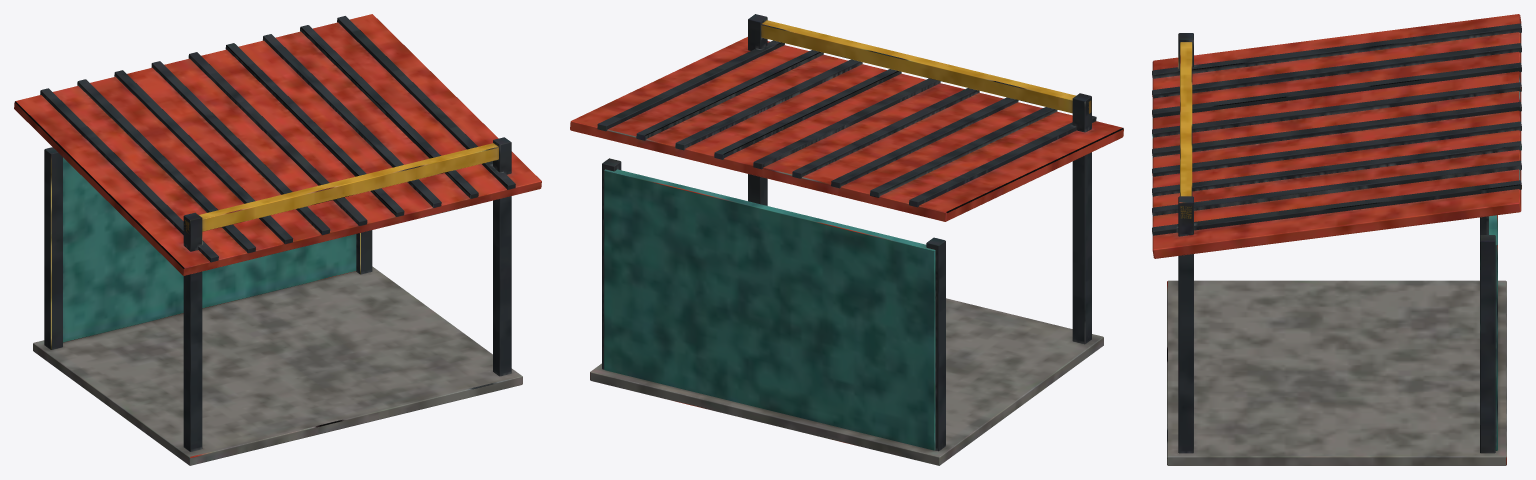
File: workshop_shed.glb
3 renders of one model, left to right at view 1: azimuth 30°, elevation 25°; view 2: azimuth 150°, elevation 25°; view 3: azimuth 270°, elevation 25°, orthographic. The views are drawn at different scales.
Parts seen in each view (by area): view 1: WorkshopShed; view 2: WorkshopShed; view 3: WorkshopShed.
Part boxes in pixels (x1=…): WorkshopShed: x1=14, y1=14, x2=541, y2=465; WorkshopShed: x1=570, y1=14, x2=1123, y2=465; WorkshopShed: x1=1152, y1=14, x2=1521, y2=465.
Bounding box in the file's own units: 5.8 × 3.92 × 4.78.
1 material, 1 textured.
